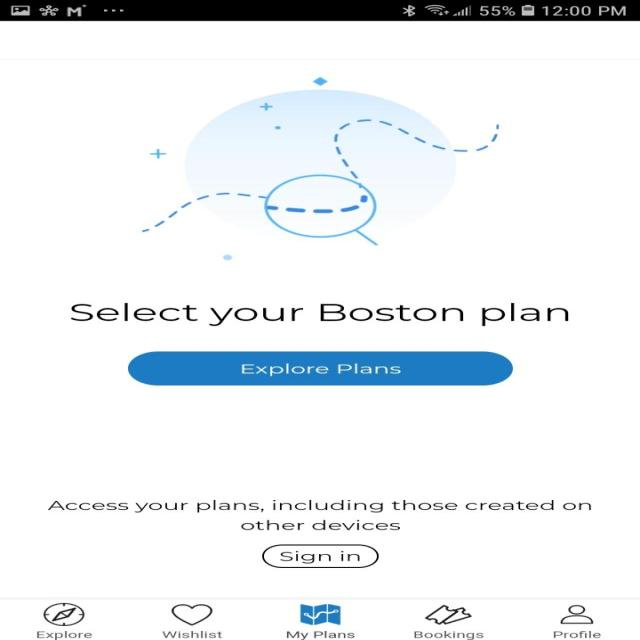Icon: (44, 602, 86, 626), (424, 604, 472, 624), (170, 603, 213, 625), (300, 603, 340, 625), (558, 604, 593, 624)
Image: (140, 76, 498, 260)
Text: (47, 499, 591, 530), (70, 302, 569, 326), (412, 630, 483, 639), (285, 630, 354, 639), (36, 630, 92, 639), (162, 630, 222, 638), (552, 630, 600, 638)
TextButton: (127, 351, 513, 386), (261, 544, 379, 568)
